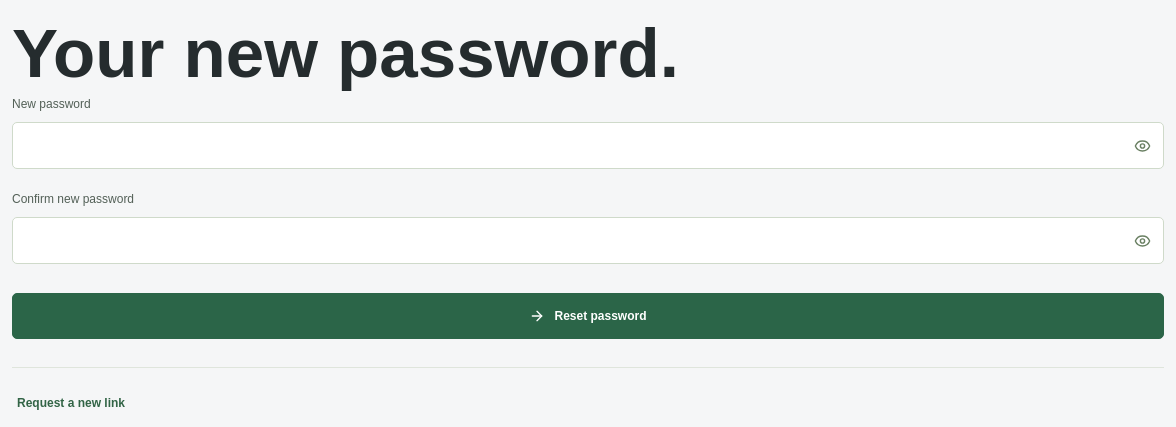
Test: Single-use password link › removes the token from the URL while keeping it in form memory
Type "Secure replacement 2026" into the password field labelled "New password" at [588, 146], box [12, 122, 1164, 169]
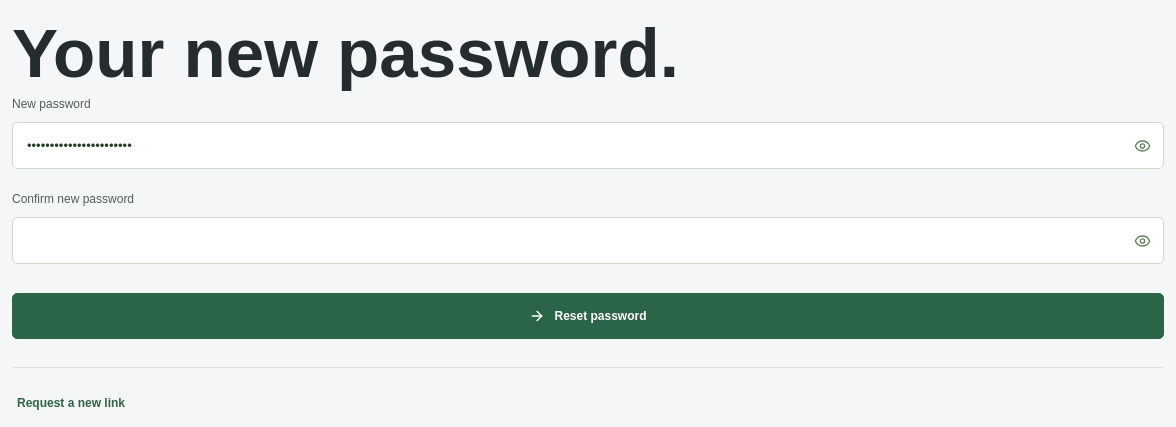
Type "Secure replacement 2026" into the password field labelled "Confirm new password" at [588, 241], box [12, 217, 1164, 264]
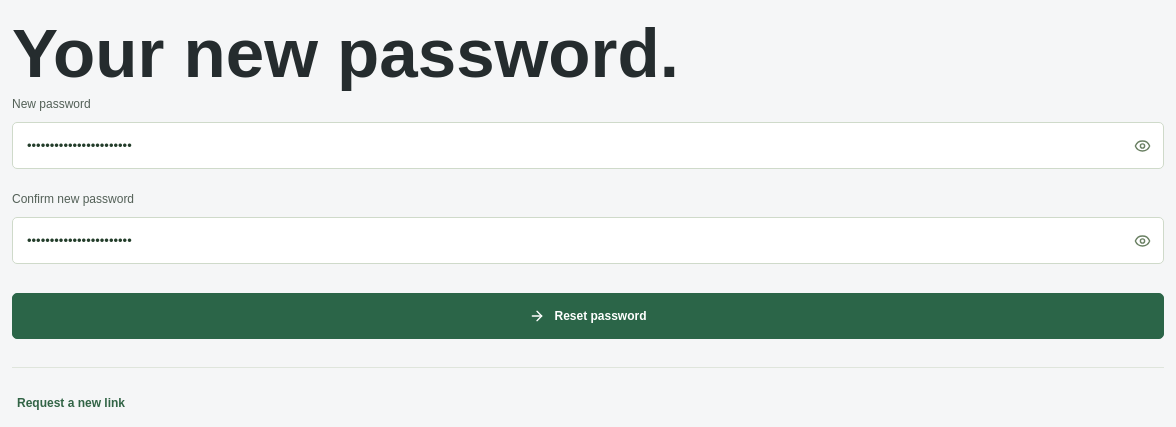
Click the button "Reset password" at [588, 316], box [12, 293, 1164, 339]
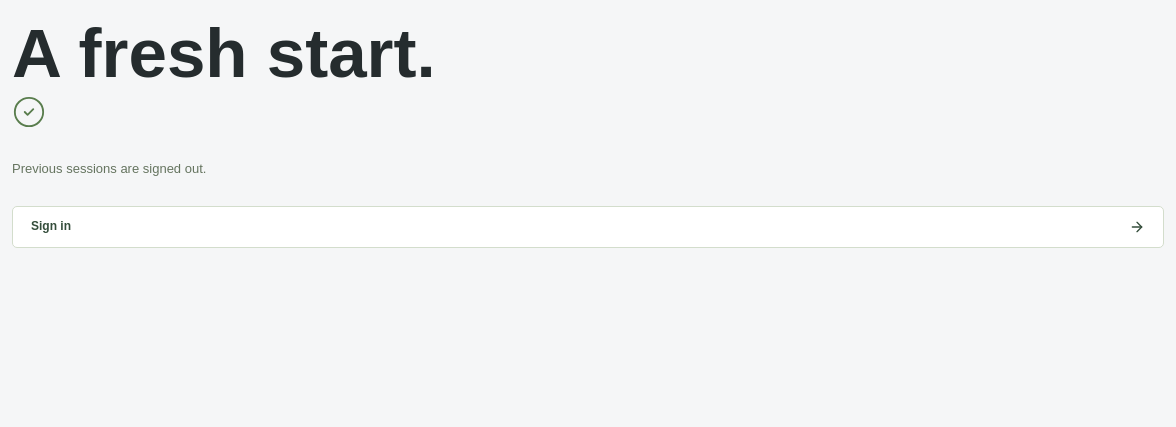
Expected: the heading "A fresh start." is shown, [12, 14, 436, 92]
